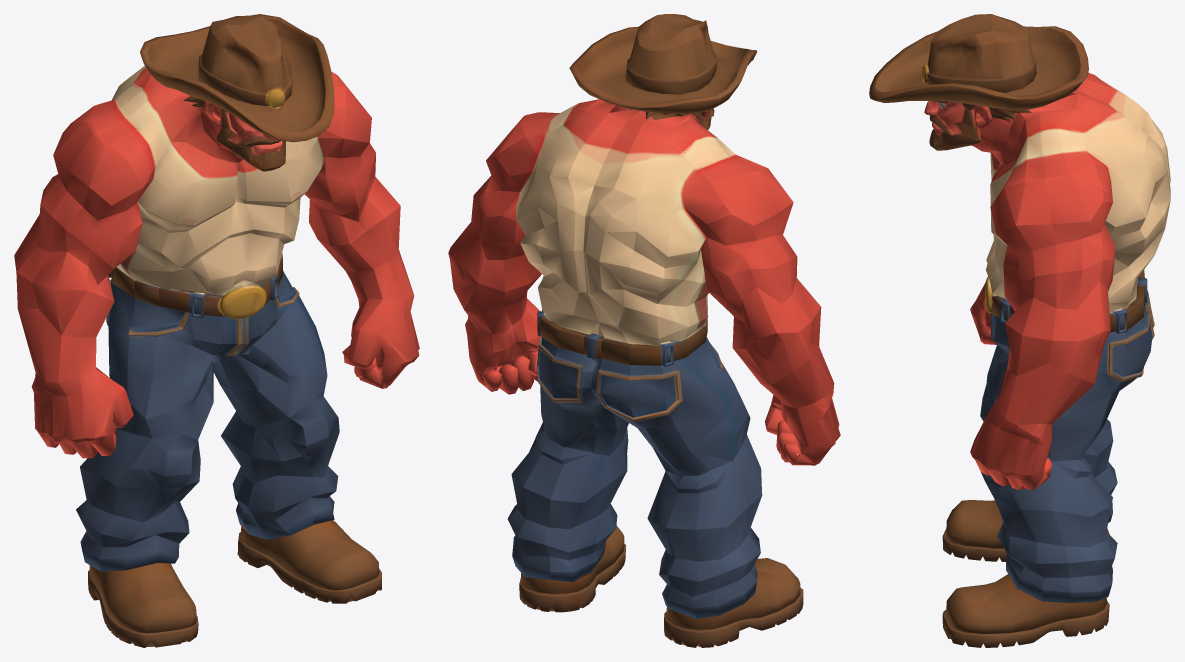
Rendered from ignis.glb.
3 views of the same model, side by side, from view 1: azimuth 30°, elevation 25°; view 2: azimuth 150°, elevation 25°; view 3: azimuth 270°, elevation 25° (orthographic). The views are drawn at different scales.
Visible parts, largest first — view 1: tripo_node_afc918cd-ca12-4af5-aab8-e298e0fadae7; view 2: tripo_node_afc918cd-ca12-4af5-aab8-e298e0fadae7; view 3: tripo_node_afc918cd-ca12-4af5-aab8-e298e0fadae7.
Boxes of the visible parts, x1=… form: tripo_node_afc918cd-ca12-4af5-aab8-e298e0fadae7: x1=14, y1=14, x2=419, y2=647; tripo_node_afc918cd-ca12-4af5-aab8-e298e0fadae7: x1=448, y1=14, x2=840, y2=647; tripo_node_afc918cd-ca12-4af5-aab8-e298e0fadae7: x1=869, y1=14, x2=1170, y2=647.
Bounding box in the file's own units: 0.6724 × 0.9995 × 0.4839.
1 material, 1 textured.
